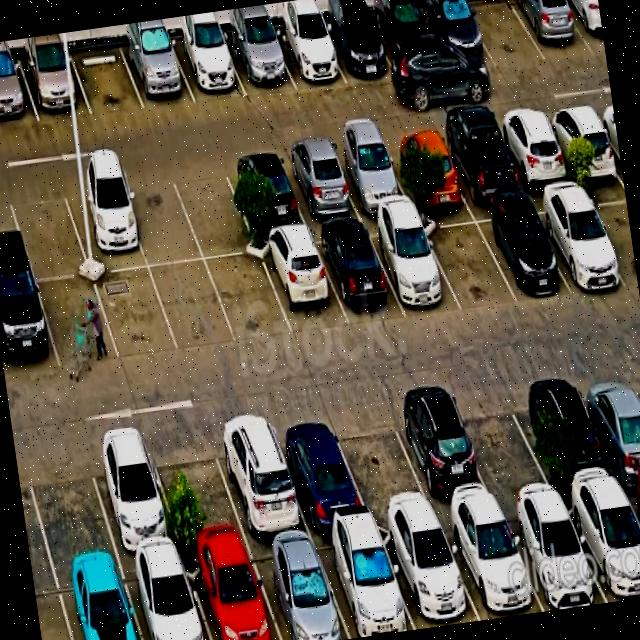empty: (32, 459, 114, 583), (162, 449, 238, 563), (345, 425, 425, 533), (466, 397, 538, 508), (434, 216, 507, 314), (130, 166, 194, 268), (99, 262, 167, 358), (42, 278, 112, 370), (72, 24, 138, 120), (185, 158, 250, 255), (14, 192, 82, 282), (212, 249, 277, 341), (157, 256, 221, 344), (469, 0, 531, 64)
occupied: (219, 442, 302, 560), (97, 461, 177, 574), (402, 406, 480, 521), (290, 436, 362, 554), (530, 380, 600, 496), (552, 190, 622, 302), (396, 530, 474, 630), (330, 536, 404, 640), (460, 518, 534, 622), (524, 507, 596, 612), (264, 546, 343, 640), (382, 216, 452, 321), (494, 200, 562, 306), (68, 170, 140, 270), (452, 115, 518, 220), (395, 117, 460, 222), (328, 220, 392, 326), (193, 556, 273, 640), (228, 149, 299, 242), (266, 235, 334, 332), (556, 100, 618, 204), (505, 110, 568, 212), (582, 497, 640, 604), (126, 18, 188, 114), (340, 134, 400, 225), (590, 379, 640, 487), (177, 10, 236, 101), (278, 0, 336, 91), (132, 569, 206, 640), (290, 142, 350, 229), (229, 4, 287, 94), (325, 0, 387, 84), (60, 578, 142, 640), (23, 32, 81, 118), (0, 284, 53, 375), (376, 0, 435, 77), (426, 0, 483, 70), (513, 0, 573, 51), (0, 39, 28, 126)
